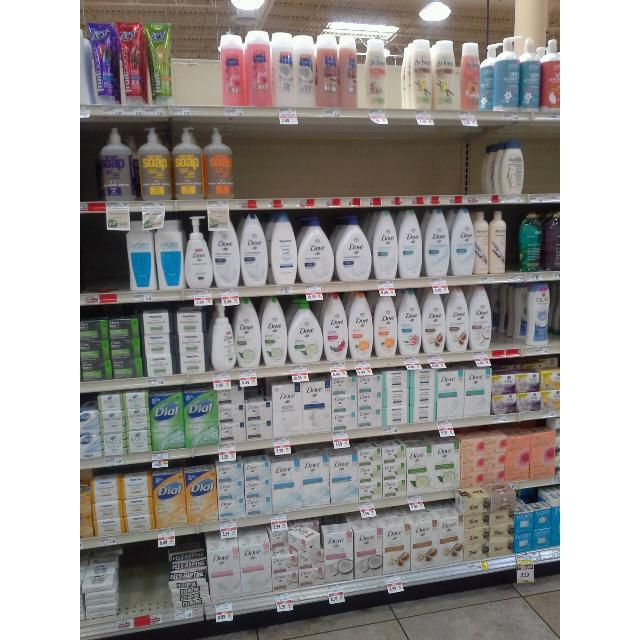empty: (233, 128, 482, 196), (172, 2, 222, 104), (120, 548, 170, 610), (81, 228, 129, 292), (524, 126, 558, 192), (80, 125, 100, 201)
front: (492, 337, 518, 349), (548, 333, 560, 345)
